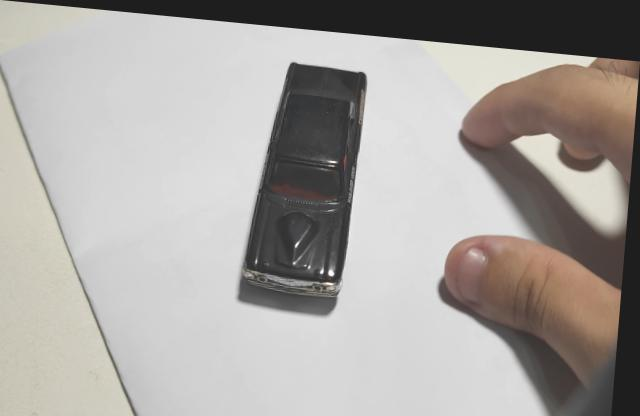01_FORD: (246, 57, 369, 292)
